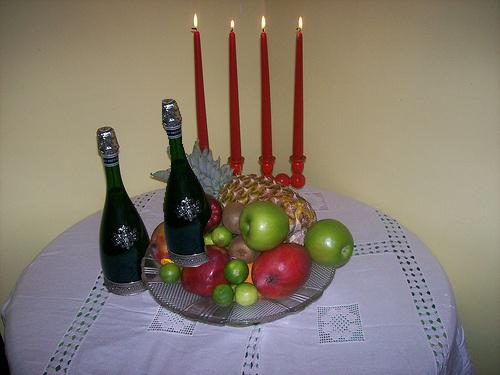tampered: (163, 100, 212, 267)
